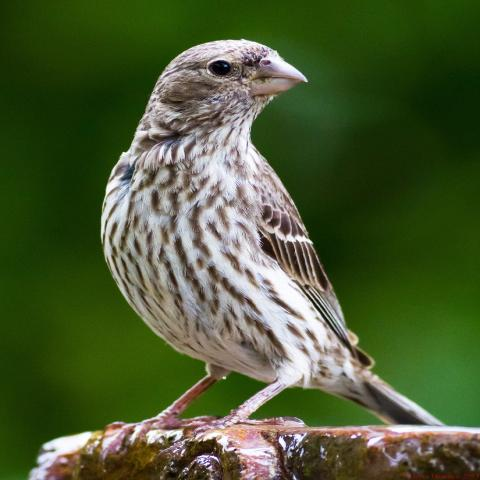bird: (98, 36, 446, 430)
